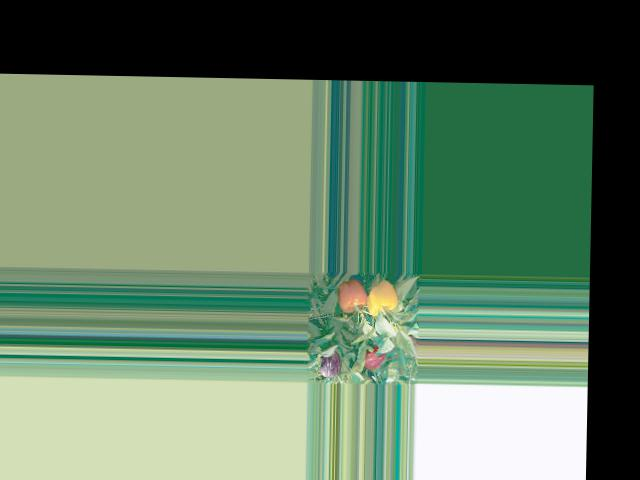bell_pepper: (359, 281, 398, 317)
